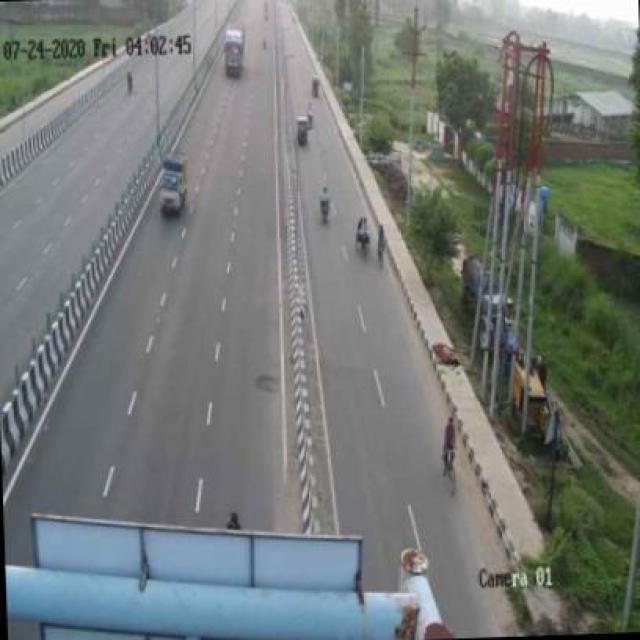car: (151, 148, 196, 216)
